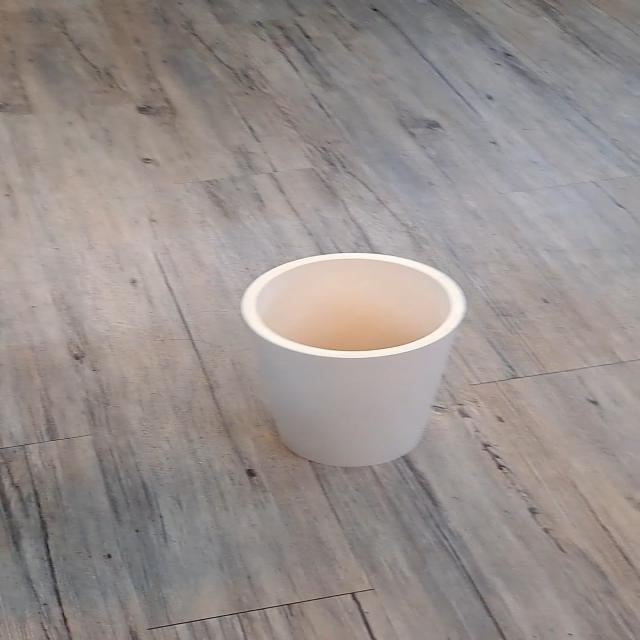CORAL: (196, 225, 556, 477)
